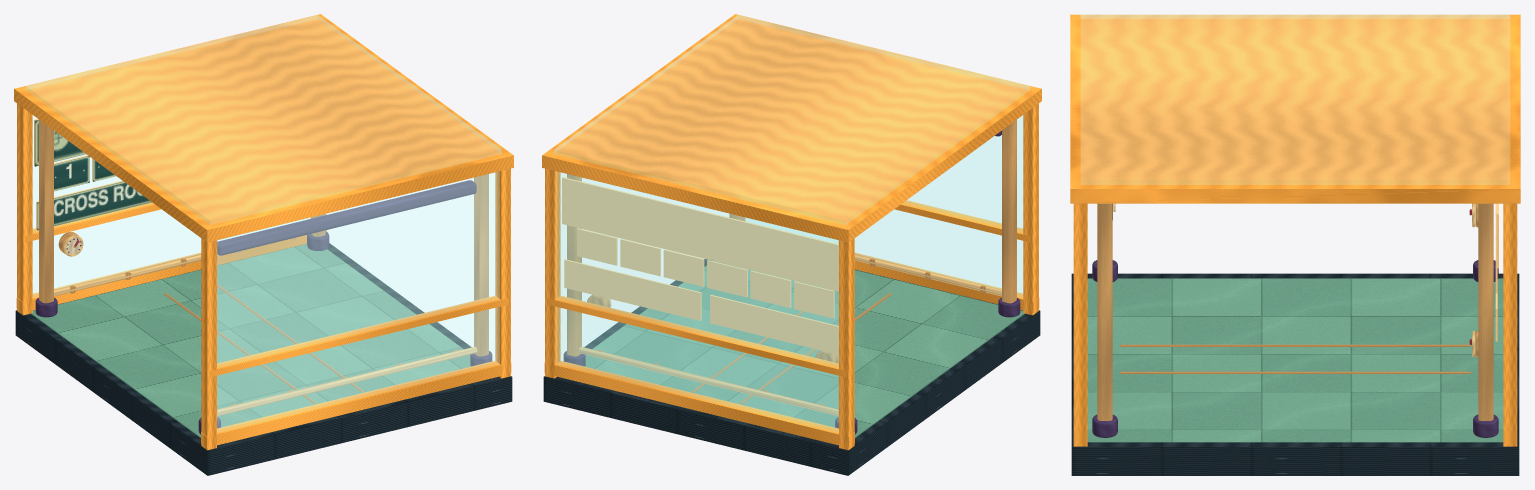
Rendered from Great-Glass-Elevator.glb.
The picture shows the model from 3 angles, left to right: view 1: azimuth 30°, elevation 25°; view 2: azimuth 150°, elevation 25°; view 3: azimuth 270°, elevation 25°; orthographic projection. The views are drawn at different scales.
Parts seen in each view (by area): view 1: Great-Glass-Elevator-Refined | moving assembly; view 2: Great-Glass-Elevator-Refined | moving assembly; view 3: Great-Glass-Elevator-Refined | moving assembly.
Boxes of the visible parts, box(x1,y1,x2,y2) form: Great-Glass-Elevator-Refined | moving assembly: box(14, 14, 513, 475); Great-Glass-Elevator-Refined | moving assembly: box(542, 14, 1041, 475); Great-Glass-Elevator-Refined | moving assembly: box(1070, 14, 1520, 475).
Bounding box in the file's own units: 4.38 × 3.42 × 4.78.
Materials: 11 (9 with a texture image).
